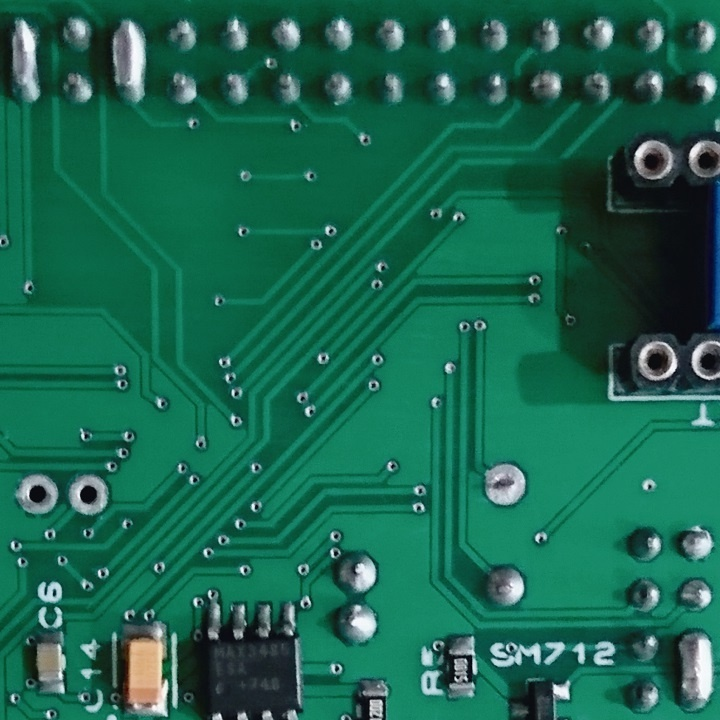F: (481, 459, 529, 511), (65, 471, 111, 520), (13, 470, 59, 518)
P: (106, 15, 150, 112), (671, 626, 718, 714), (5, 13, 47, 110)
